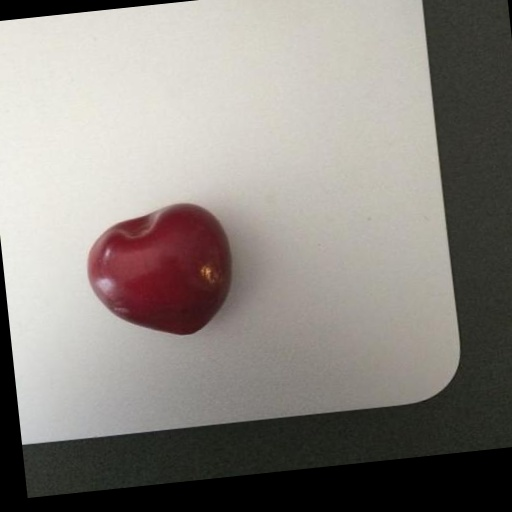fruit: (88, 204, 232, 335)
